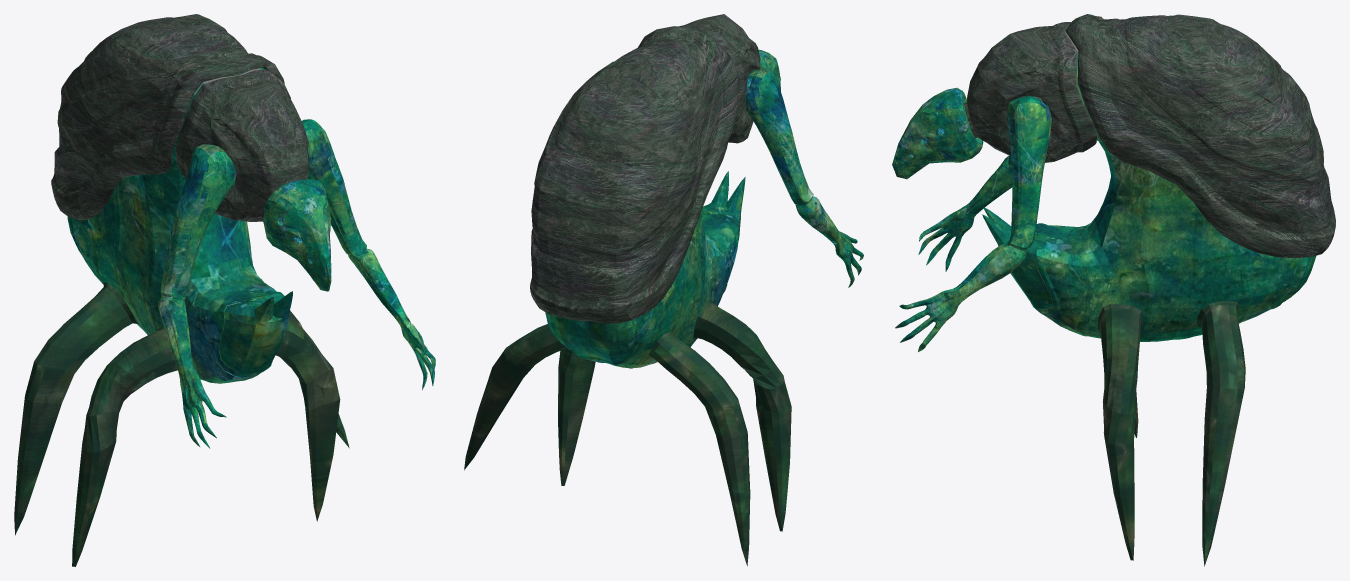
File: Andar.0012.obj
3 views of the same model, side by side, from view 1: azimuth 30°, elevation 25°; view 2: azimuth 150°, elevation 25°; view 3: azimuth 270°, elevation 25° (orthographic). The views are drawn at different scales.
Size of the model in its own units: 2.61 by 3.92 by 3.26.
5 materials, 4 textured.
